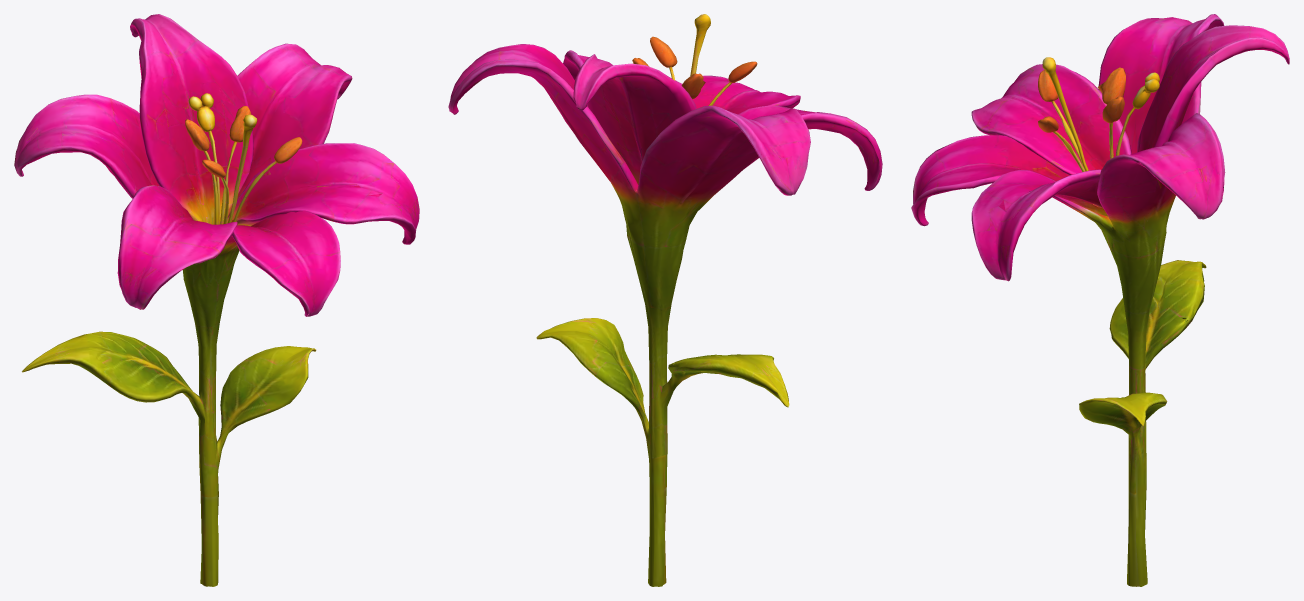
File: lily_pink.glb
3 views of the same model, side by side, from view 1: azimuth 30°, elevation 25°; view 2: azimuth 150°, elevation 25°; view 3: azimuth 270°, elevation 25° (orthographic). The views are drawn at different scales.
Parts seen in each view (by area): view 1: geometry_0; view 2: geometry_0; view 3: geometry_0.
Boxes of the visible parts, bbox=[...] form: geometry_0: bbox=[14, 14, 419, 586]; geometry_0: bbox=[448, 14, 882, 586]; geometry_0: bbox=[911, 14, 1289, 586].
Bounding box in the file's own units: 0.6211 × 0.9517 × 0.5923.
1 material, 1 textured.
